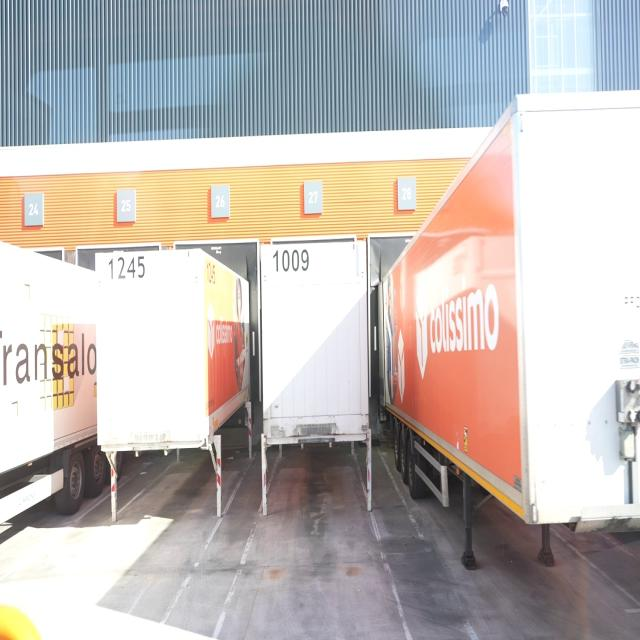Code: (106, 253, 149, 284), (272, 243, 310, 275)
